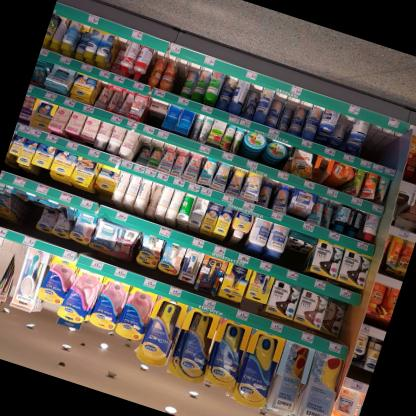empty_space: (359, 113, 408, 169)
